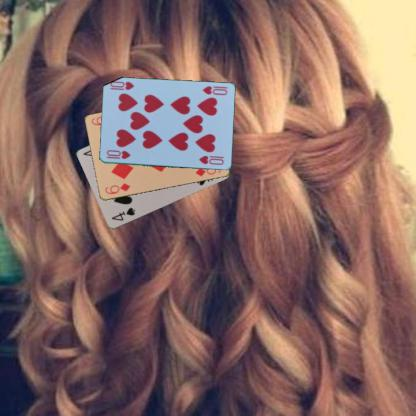10h: (104, 147, 131, 161), (199, 84, 228, 96)
4s: (109, 205, 136, 223)
6d: (102, 180, 131, 196)
